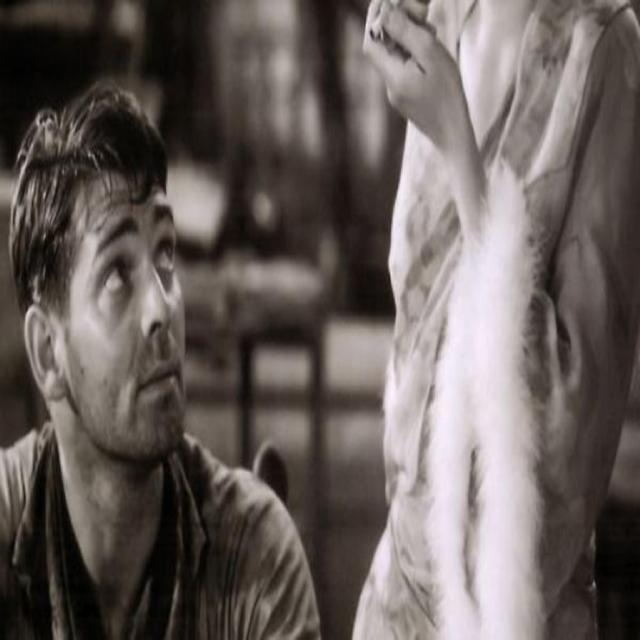smoking: (320, 0, 456, 97)
